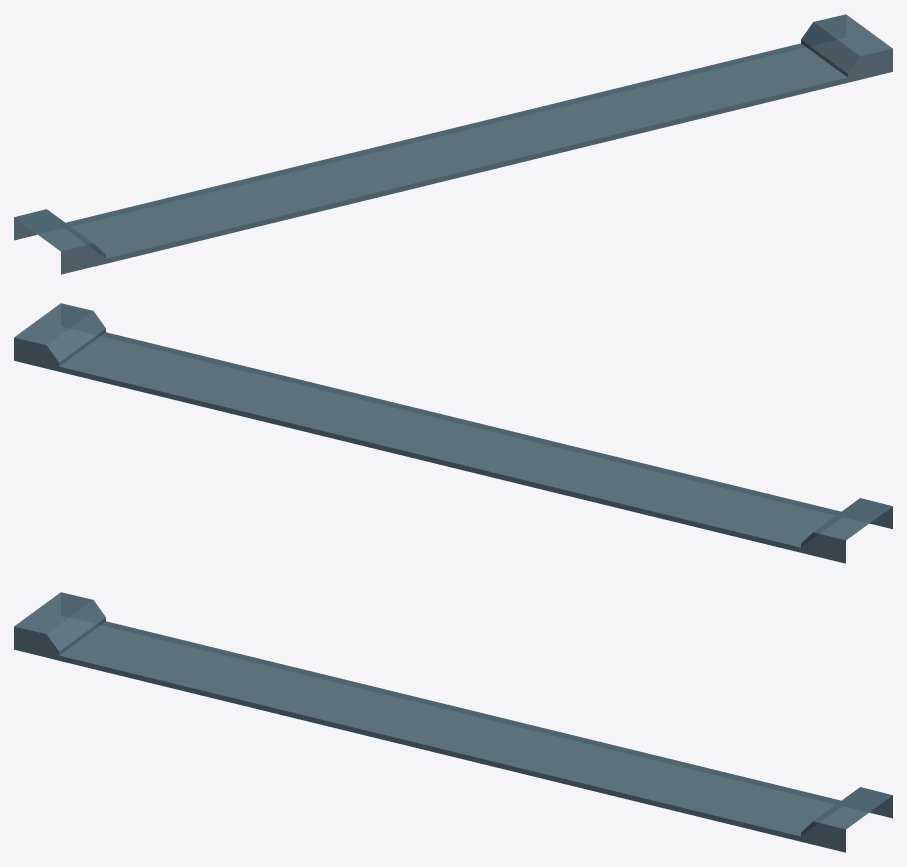
The model's file is SMOD_FrameRoad_B.fbx.
3 views of the same model, one above another, from view 1: azimuth 30°, elevation 25°; view 2: azimuth 150°, elevation 25°; view 3: azimuth 330°, elevation 25° (orthographic).
Parts seen in each view (by area): view 1: SMOD_FrameRoad_B; view 2: SMOD_FrameRoad_B; view 3: SMOD_FrameRoad_B.
Part boxes in pixels (box(x1,y1,x2,y2)): SMOD_FrameRoad_B: box(14, 14, 892, 274); SMOD_FrameRoad_B: box(14, 303, 892, 563); SMOD_FrameRoad_B: box(14, 592, 892, 852).
Bounding box in the file's own units: 5148 × 139 × 503.
